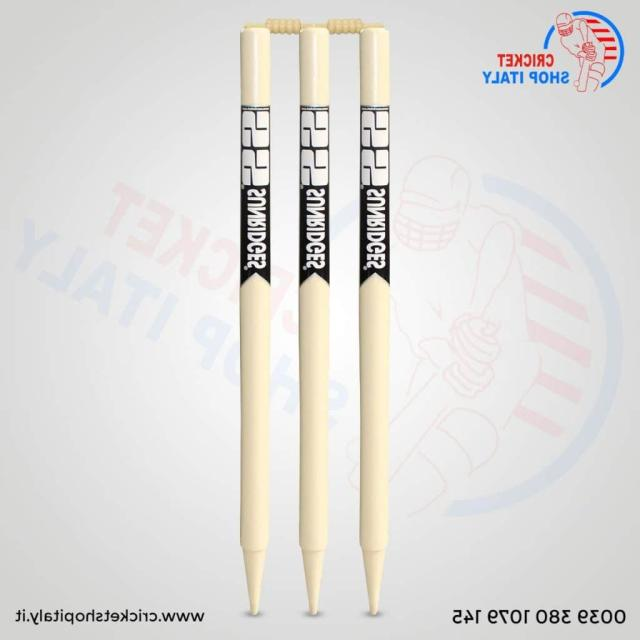stump: (239, 17, 392, 612)
